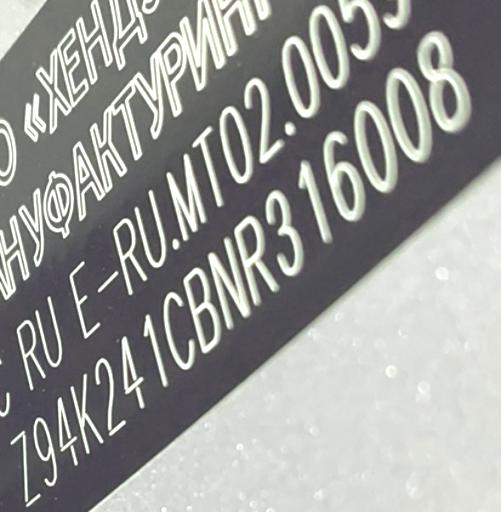letter: (418, 27, 471, 139), (351, 97, 400, 197), (386, 64, 433, 164), (319, 128, 363, 222), (290, 159, 334, 249), (180, 263, 224, 353), (234, 212, 277, 302), (262, 190, 306, 274), (208, 238, 249, 328), (158, 291, 195, 373), (69, 374, 104, 454), (93, 355, 126, 435), (116, 334, 147, 414), (139, 309, 169, 389), (11, 430, 40, 508), (52, 393, 82, 467), (31, 414, 60, 488)
